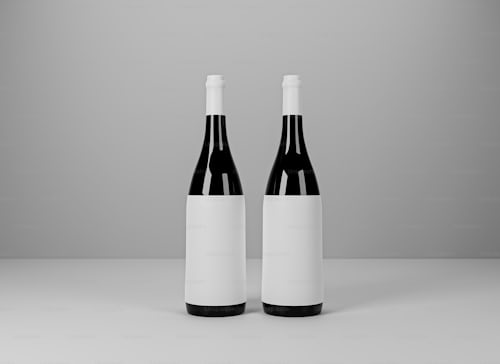Bottle: (172, 73, 248, 322)
Drinking: (253, 68, 328, 318)
